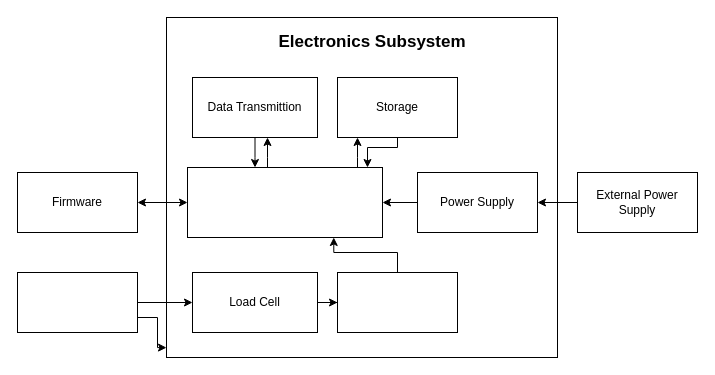
Some shapes in this 715 by 375 pixel diagram are drawn without their labels. Each missing label, with the box of its shape:
Load Cell Amplifier: (336, 272, 458, 332)
Microprocessor: (186, 166, 382, 238)
Scale Structure and Housing: (16, 272, 138, 332)
